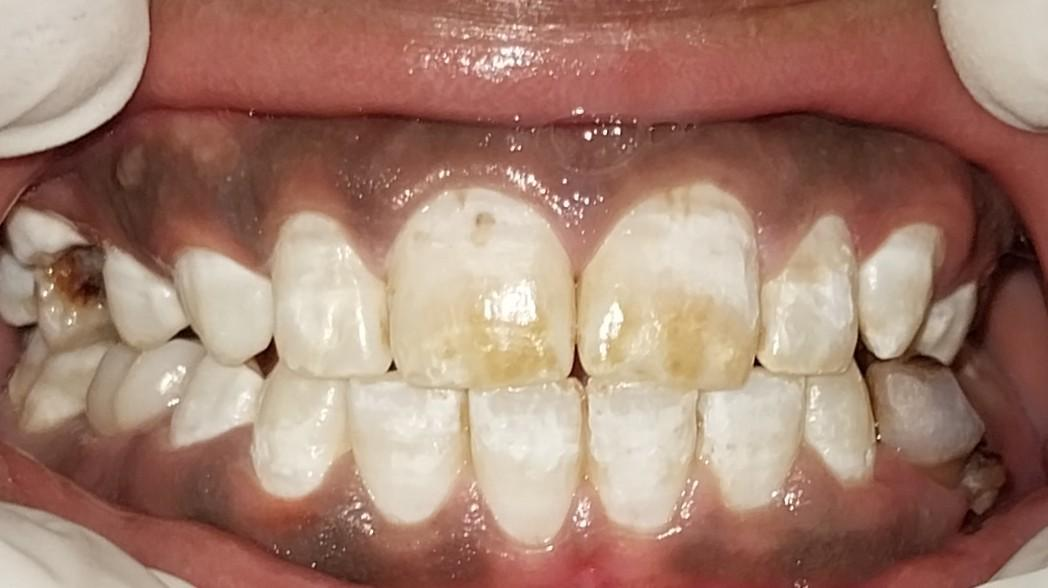D: (27, 251, 120, 343)
